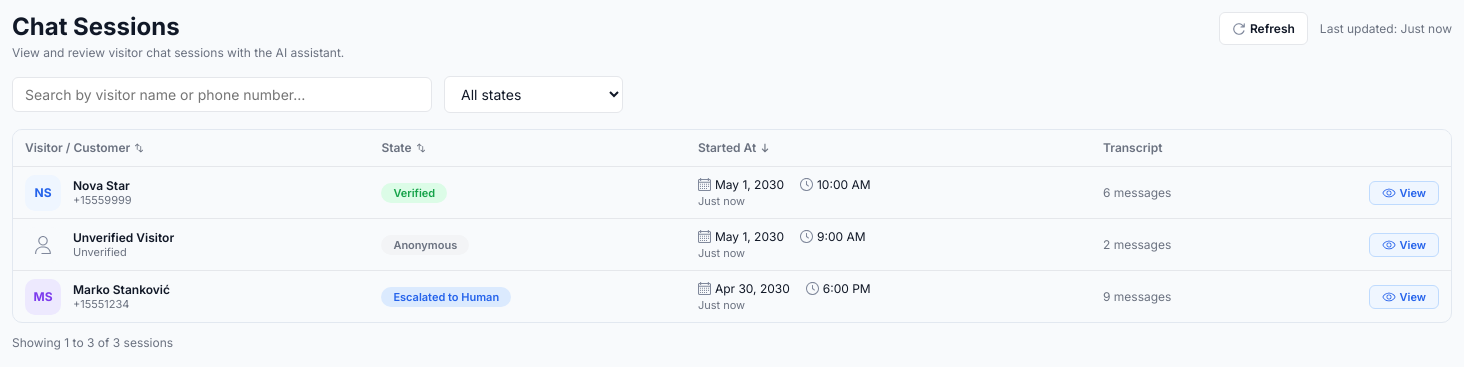
it: SessionManager › filters the table down to only the selected state
Expected: the text "Nova Star" is shown, [73,180,132,192]
Expected: the text "Marko Stanković" is shown, [73,284,170,296]
Select "Verified" in the dropdown named "Filter by state" at [534, 94], box [444,76,623,113]
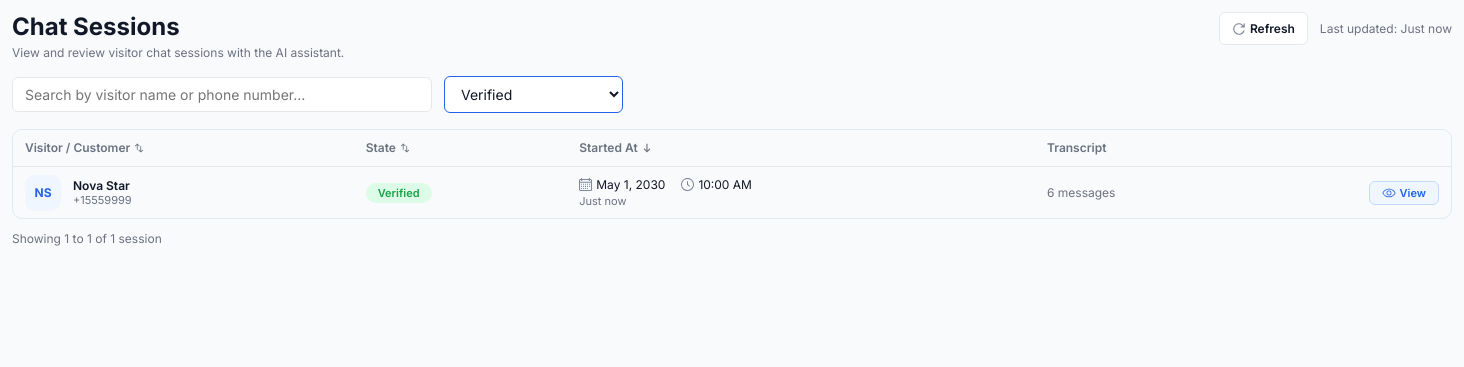
Expected: the text "Nova Star" is shown, [73,180,132,192]
Expected: the text "Marko Stanković" is gone
